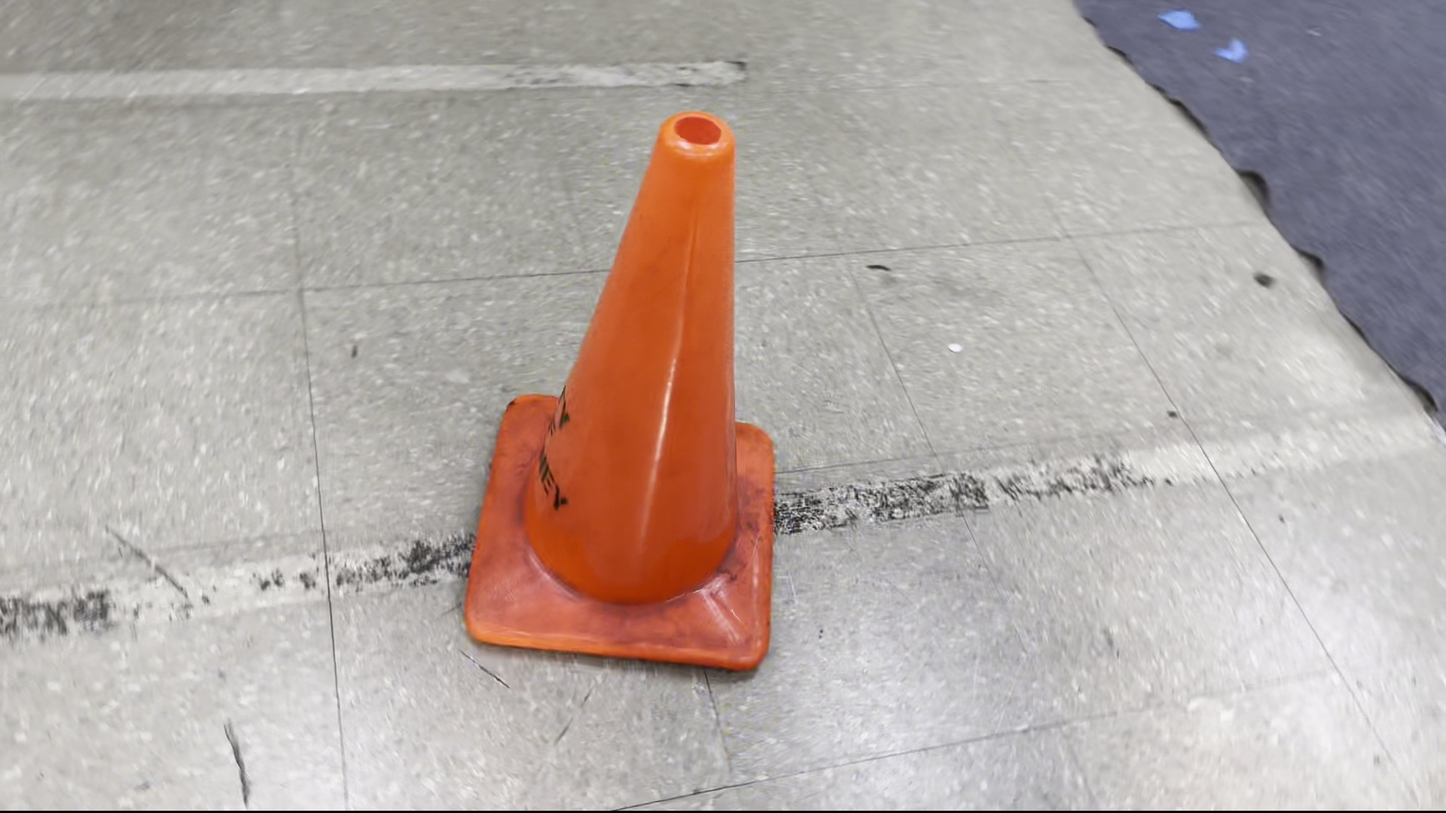traffic_cone: (462, 109, 776, 672)
